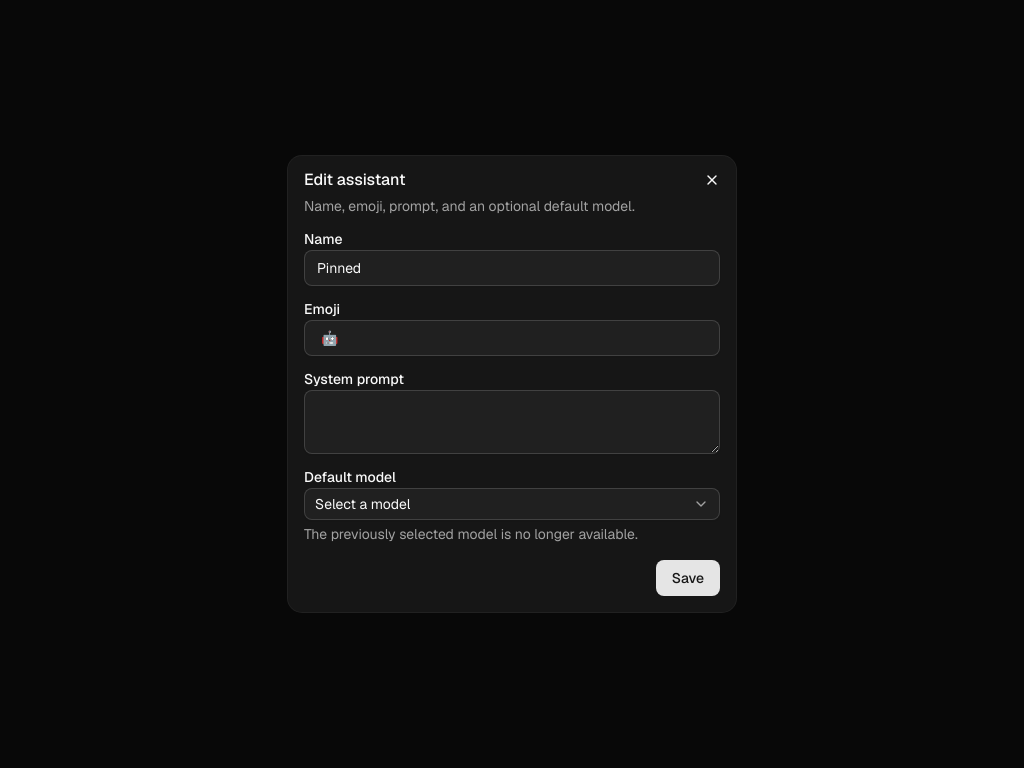
Test: AssistantEditorDialog › shows an unavailable notice and nothing preselected for a stale model
The width and height of the screenshot is (1024, 768).
Expected: the text "The previously selected model is no longer available." is shown, [304,525,638,543]
Expected: the button named "Emoji" reads "🤖", [304,320,720,356]
Click the button named "Default model". click: coordinates (363, 504)
box: [304,488,720,520]
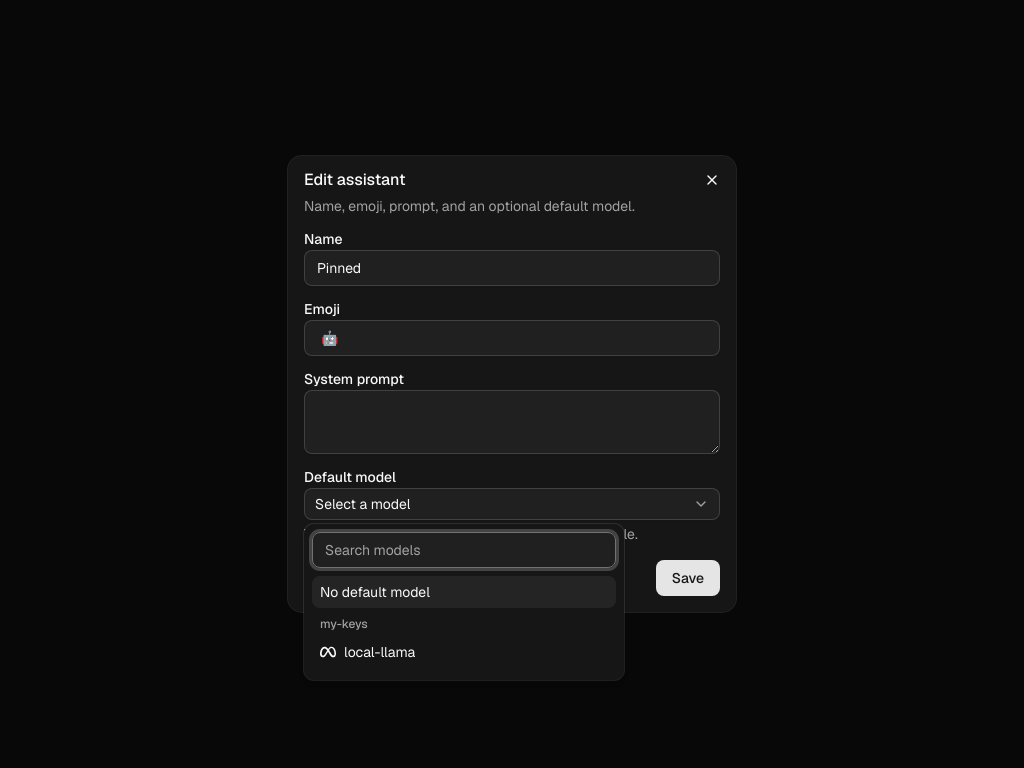
Now the button "No default model" is shown, box [312,576,616,608]
